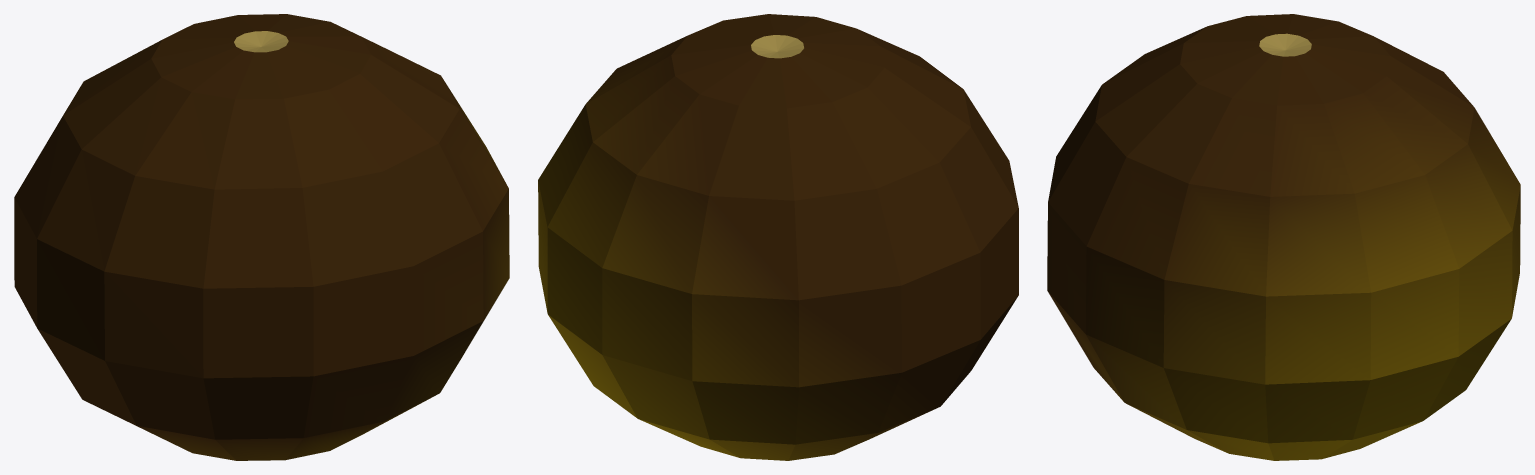
File: Orange.fbx
The picture shows the model from 3 angles, left to right: view 1: azimuth 30°, elevation 25°; view 2: azimuth 150°, elevation 25°; view 3: azimuth 270°, elevation 25°; orthographic projection. The views are drawn at different scales.
Parts seen in each view (by area): view 1: shot_20260405070034.005, shot_20260405070034.001; view 2: shot_20260405070034.005, shot_20260405070034.001; view 3: shot_20260405070034.005, shot_20260405070034.001.
Boxes of the visible parts, x1=… form: shot_20260405070034.005: x1=14, y1=14, x2=509, y2=460; shot_20260405070034.001: x1=234, y1=31, x2=288, y2=52; shot_20260405070034.005: x1=538, y1=14, x2=1018, y2=460; shot_20260405070034.001: x1=751, y1=35, x2=803, y2=58; shot_20260405070034.005: x1=1047, y1=14, x2=1520, y2=460; shot_20260405070034.001: x1=1259, y1=33, x2=1311, y2=56.
Size of the model in its own units: 364 by 320 by 352.
